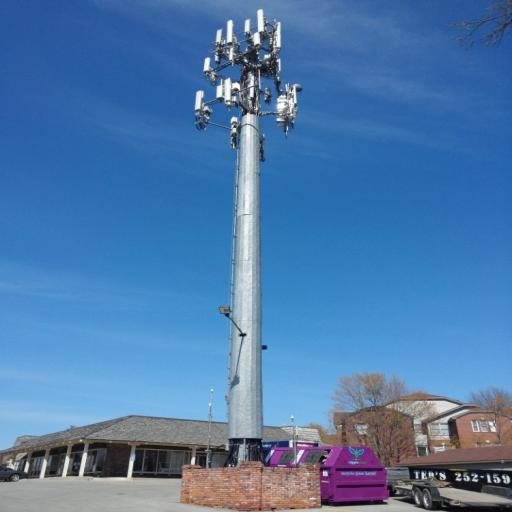monopole_tower: (194, 9, 300, 465)
